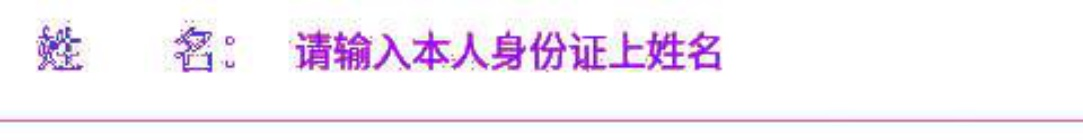EditText: (1, 1, 1082, 139)
